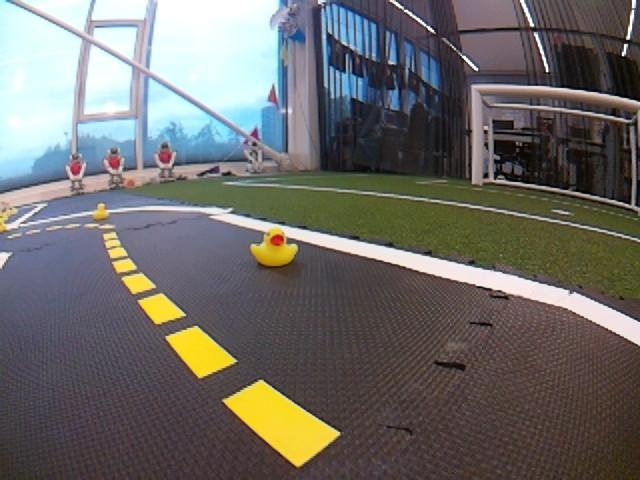Duckies: (251, 227, 296, 265), (91, 204, 110, 220), (0, 220, 5, 233), (0, 213, 7, 221), (11, 209, 16, 215)
